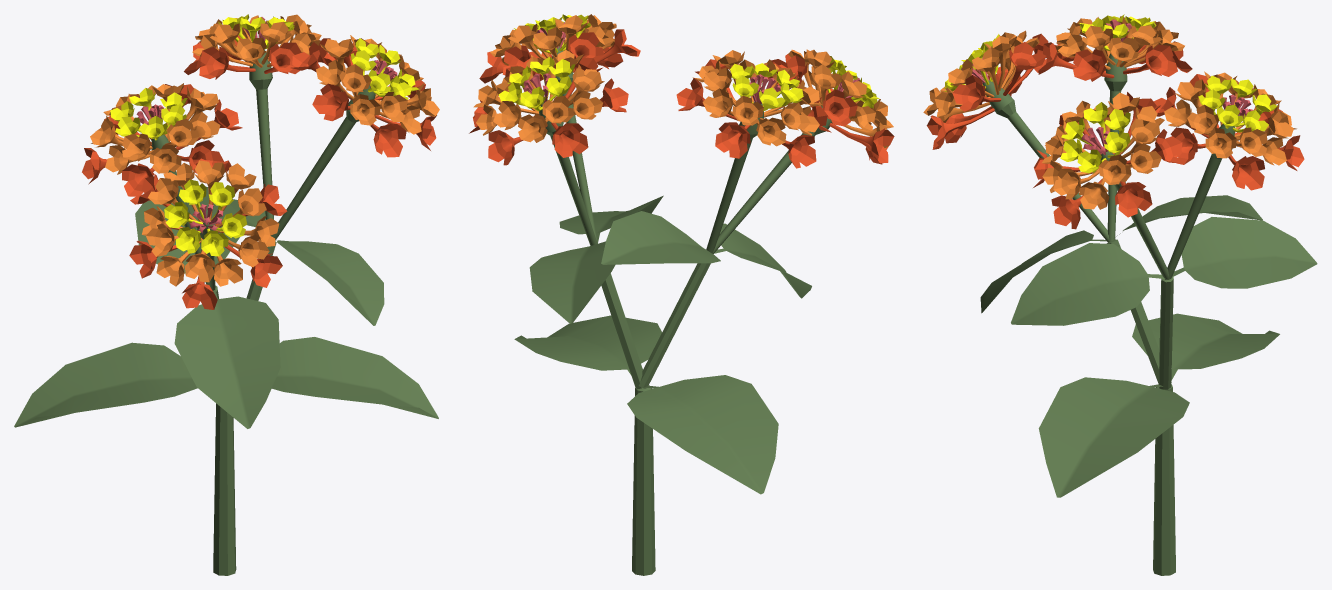
Rendered from lantana_camara.fbx.
The picture shows the model from 3 angles, left to right: view 1: azimuth 30°, elevation 25°; view 2: azimuth 150°, elevation 25°; view 3: azimuth 270°, elevation 25°; orthographic projection.
Parts seen in each view (by area): view 1: bout2_pCylinder1; view 2: bout2_pCylinder1; view 3: bout2_pCylinder1.
Boxes of the visible parts, left/top/right/bottom form: bout2_pCylinder1: left=14, top=14, right=439, bottom=575; bout2_pCylinder1: left=469, top=14, right=894, bottom=575; bout2_pCylinder1: left=923, top=14, right=1317, bottom=575.
Bounding box in the file's own units: 60.73 × 87.67 × 60.4.
